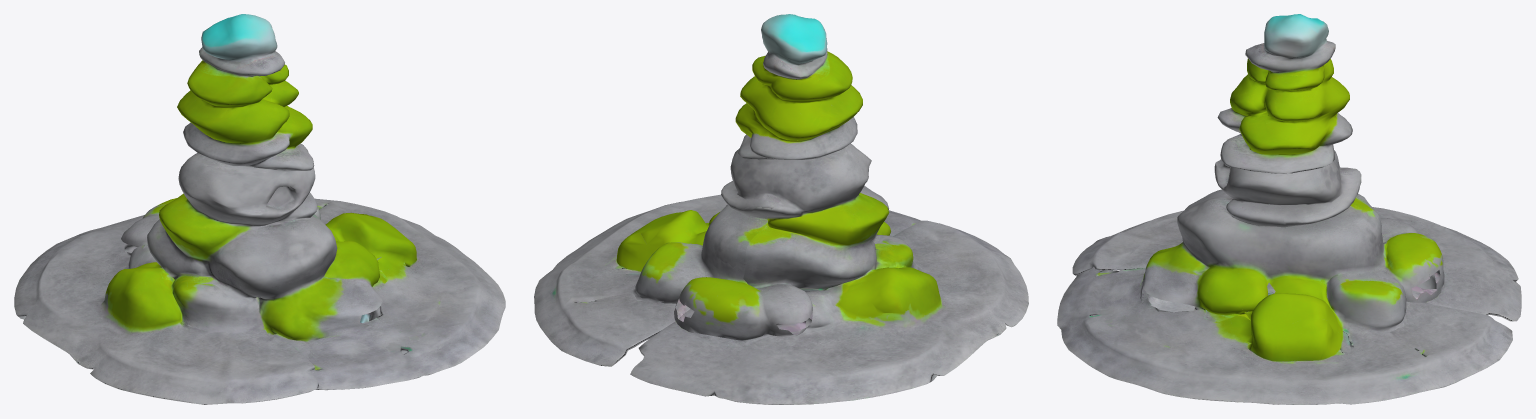
Rendered from waypoint_cairn.glb.
The picture shows the model from 3 angles, left to right: view 1: azimuth 30°, elevation 25°; view 2: azimuth 150°, elevation 25°; view 3: azimuth 270°, elevation 25°; orthographic projection.
Bounding box in the file's own units: 1.9 × 1.37 × 1.91.
1 material, 1 textured.
